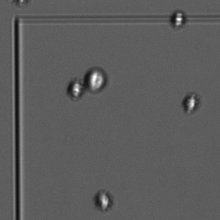Living Cell: (84, 64, 109, 95), (92, 189, 116, 212), (180, 91, 201, 115), (66, 77, 85, 101), (169, 8, 188, 28)
